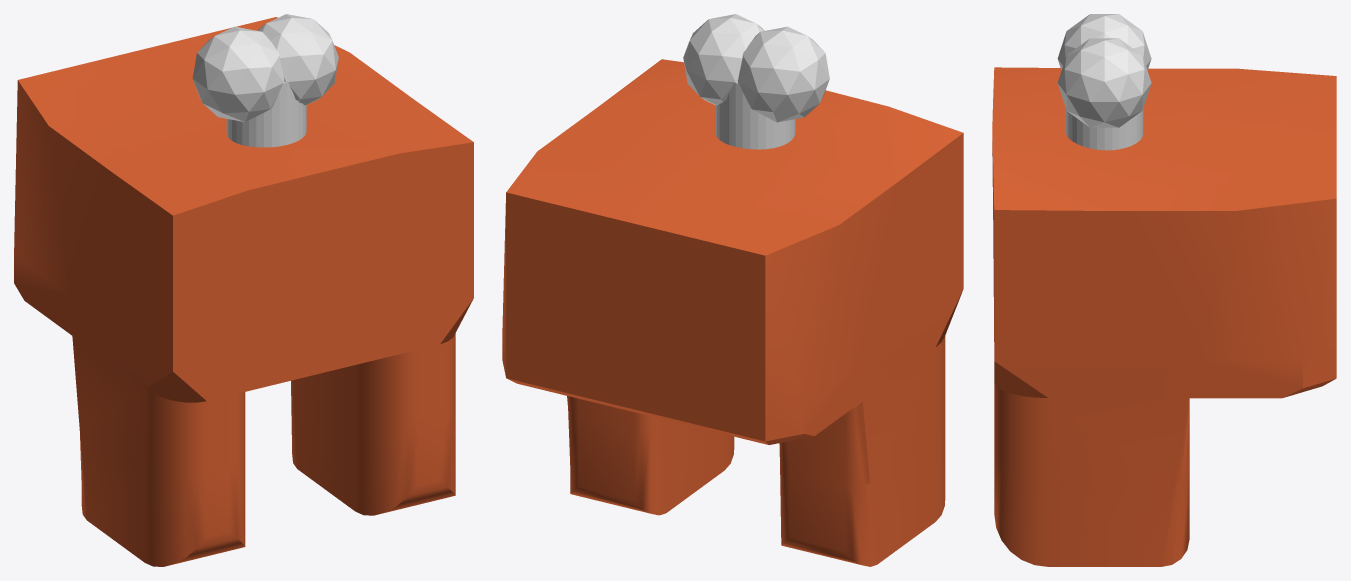
The model's file is OrangeImpostorDead.fbx.
3 renders of one model, left to right at view 1: azimuth 30°, elevation 25°; view 2: azimuth 150°, elevation 25°; view 3: azimuth 270°, elevation 25°, orthographic. The views are drawn at different scales.
Visible parts, largest first — view 1: Cube.002, Icosphere.001, Icosphere, Cylinder; view 2: Cube.002, Icosphere.001, Icosphere, Cylinder; view 3: Cube.002, Icosphere, Icosphere.001, Cylinder.
Boxes of the visible parts, left/top/right/bottom form: Cube.002: left=14, top=17, right=473, bottom=566; Icosphere.001: left=192, top=26, right=284, bottom=122; Icosphere: left=257, top=14, right=338, bottom=105; Cylinder: left=226, top=82, right=306, bottom=147; Cube.002: left=502, top=59, right=963, bottom=566; Icosphere.001: left=738, top=26, right=829, bottom=122; Icosphere: left=683, top=14, right=764, bottom=105; Cylinder: left=715, top=82, right=795, bottom=149; Cube.002: left=992, top=67, right=1336, bottom=566; Icosphere: left=1057, top=38, right=1151, bottom=127; Icosphere.001: left=1057, top=14, right=1151, bottom=70; Cylinder: left=1065, top=108, right=1143, bottom=150.
Size of the model in its own units: 187 by 285 by 191.
